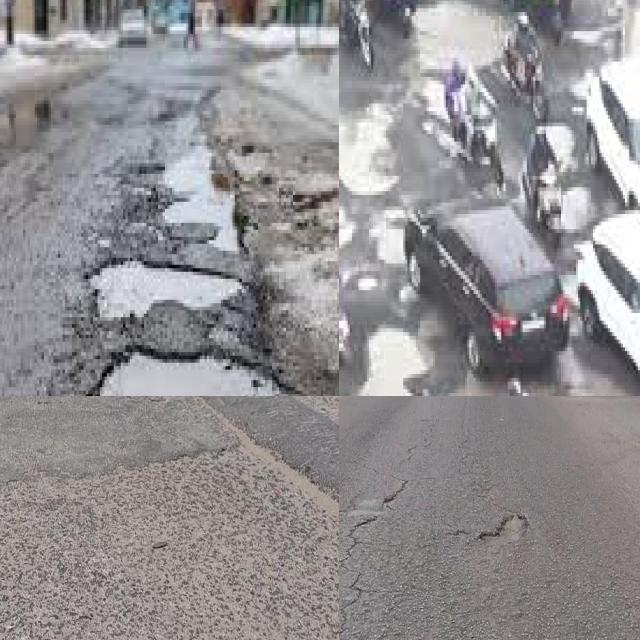Pothole: (416, 4, 501, 119), (99, 352, 283, 396), (95, 261, 239, 317), (163, 153, 237, 251), (339, 104, 395, 195), (355, 328, 420, 396), (480, 512, 531, 541)
